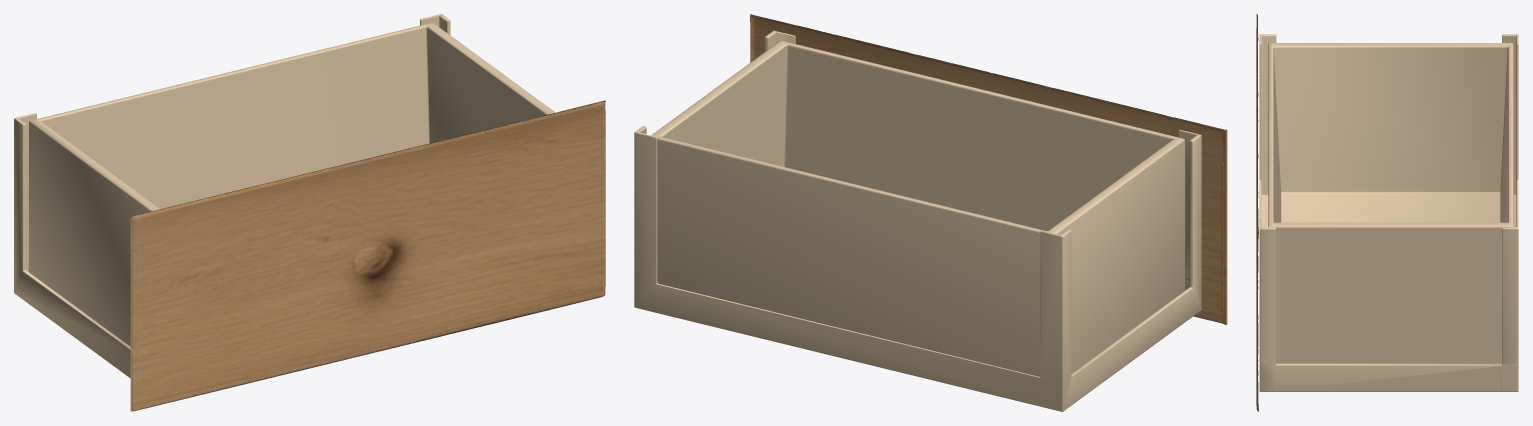
File: drawer_top.glb
3 renders of one model, left to right at view 1: azimuth 30°, elevation 25°; view 2: azimuth 150°, elevation 25°; view 3: azimuth 270°, elevation 25°, orthographic. The views are drawn at different scales.
Visible parts, largest first — view 1: source_front_cap_0, prefab_drawer_body_1; view 2: prefab_drawer_body_1, source_front_cap_0; view 3: prefab_drawer_body_1, source_front_cap_0.
Part boxes in pixels (x1,y1,x2,y2): source_front_cap_0: [130, 100, 605, 411]; prefab_drawer_body_1: [14, 14, 555, 378]; prefab_drawer_body_1: [634, 30, 1201, 411]; source_front_cap_0: [750, 14, 1227, 324]; prefab_drawer_body_1: [1259, 34, 1518, 391]; source_front_cap_0: [1256, 14, 1258, 411].
Size of the model in its own units: 0.4863 by 0.1905 by 0.2494.
Materials: 2 (1 with a texture image).
